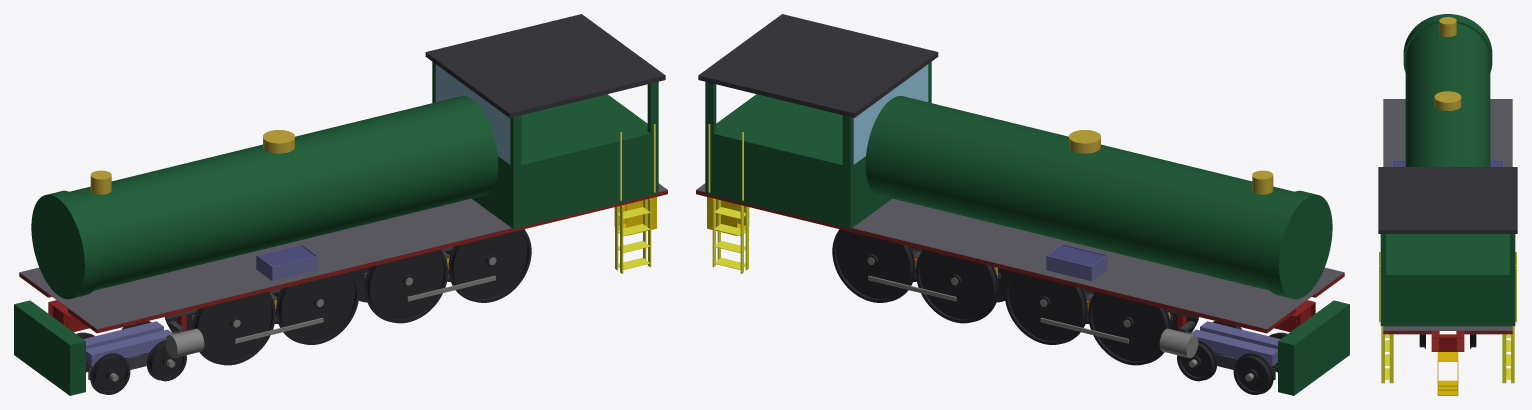
Rendered from PF-L100_locomotive.glb.
3 renders of one model, left to right at view 1: azimuth 30°, elevation 25°; view 2: azimuth 150°, elevation 25°; view 3: azimuth 270°, elevation 25°, orthographic. The views are drawn at different scales.
Parts seen in each view (by area): view 1: 205 boiler-style hood shell 3 mm (cosmetic, removable), 209 cab lower walls 3 mm on HSS2x2x1-8, 029 running board - deck PL6 tread plate (top Z1,605, LT11), 215 cab roof 3 mm skin on HSS3x2x1-8 purlins @600 (3 in deep, 206 smokebox front, 033 pilot - buffer beam PL12 box, 110 wheel web 25 T2 Ã1450 driver (spoked look; plate-web sec, 135 wheel web 25 T2 Ã1450 driver (spoked look; plate-web sec, 069 wheel web 25 T1 Ã1450 driver (spoked look; plate-web sec, 044 wheel web 25 T1 Ã1450 driver (spoked look; plate-web sec, 028 running-board edge angle L3x3x1-4, 214 cab front wall - windows (+14 smaller); view 2: 205 boiler-style hood shell 3 mm (cosmetic, removable), 209 cab lower walls 3 mm on HSS2x2x1-8, 029 running board - deck PL6 tread plate (top Z1,605, LT11), 215 cab roof 3 mm skin on HSS3x2x1-8 purlins @600 (3 in deep, 206 smokebox front, 033 pilot - buffer beam PL12 box, 106 wheel web 25 T2 Ã1450 driver (spoked look; plate-web sec, 131 wheel web 25 T2 Ã1450 driver (spoked look; plate-web sec, 065 wheel web 25 T1 Ã1450 driver (spoked look; plate-web sec, 040 wheel web 25 T1 Ã1450 driver (spoked look; plate-web sec, 027 running-board edge angle L3x3x1-4, 214 cab front wall - windows (+14 smaller); view 3: 209 cab lower walls 3 mm on HSS2x2x1-8, 205 boiler-style hood shell 3 mm (cosmetic, removable), 215 cab roof 3 mm skin on HSS3x2x1-8 purlins @600 (3 in deep, 029 running board - deck PL6 tread plate (top Z1,605, LT11), 206 smokebox front, 208 dome (cosmetic), 030 loco rear drop drawbar box PL16, 207 stack (cosmetic), 003 rear end sill HSS12x6x3-8, 223 step stringer FB 20x75, 233 step stringer FB 20x75, 211 cab rear post HSS4x4x1-4 (+8 smaller).
Boxes of the visible parts, box(x1,y1,x2,y2) form: 205 boiler-style hood shell 3 mm (cosmetic, removable): box(69, 96, 498, 290); 209 cab lower walls 3 mm on HSS2x2x1-8: box(472, 94, 658, 228); 029 running board - deck PL6 tread plate (top Z1,605, LT11): box(19, 183, 667, 329); 215 cab roof 3 mm skin on HSS3x2x1-8 purlins @600 (3 in deep: box(425, 14, 665, 117); 206 smokebox front: box(31, 190, 100, 299); 033 pilot - buffer beam PL12 box: box(14, 300, 85, 395); 110 wheel web 25 T2 Ã1450 driver (spoked look; plate-web sec: box(372, 250, 443, 319); 135 wheel web 25 T2 Ã1450 driver (spoked look; plate-web sec: box(456, 230, 527, 298); 069 wheel web 25 T1 Ã1450 driver (spoked look; plate-web sec: box(284, 272, 354, 340); 044 wheel web 25 T1 Ã1450 driver (spoked look; plate-web sec: box(200, 292, 271, 361); 028 running-board edge angle L3x3x1-4: box(96, 190, 667, 333); 214 cab front wall - windows: box(435, 64, 510, 164); 205 boiler-style hood shell 3 mm (cosmetic, removable): box(865, 96, 1294, 290); 209 cab lower walls 3 mm on HSS2x2x1-8: box(705, 94, 891, 228); 029 running board - deck PL6 tread plate (top Z1,605, LT11): box(696, 183, 1344, 329); 215 cab roof 3 mm skin on HSS3x2x1-8 purlins @600 (3 in deep: box(698, 14, 938, 117); 206 smokebox front: box(1263, 190, 1332, 299); 033 pilot - buffer beam PL12 box: box(1278, 300, 1349, 395); 106 wheel web 25 T2 Ã1450 driver (spoked look; plate-web sec: box(920, 250, 991, 319); 131 wheel web 25 T2 Ã1450 driver (spoked look; plate-web sec: box(836, 230, 907, 298); 065 wheel web 25 T1 Ã1450 driver (spoked look; plate-web sec: box(1009, 272, 1079, 340); 040 wheel web 25 T1 Ã1450 driver (spoked look; plate-web sec: box(1092, 292, 1163, 361); 027 running-board edge angle L3x3x1-4: box(696, 190, 1267, 333); 214 cab front wall - windows: box(853, 64, 928, 164); 209 cab lower walls 3 mm on HSS2x2x1-8: box(1380, 234, 1515, 326); 205 boiler-style hood shell 3 mm (cosmetic, removable): box(1405, 23, 1490, 166); 215 cab roof 3 mm skin on HSS3x2x1-8 purlins @600 (3 in deep: box(1378, 167, 1517, 233); 029 running board - deck PL6 tread plate (top Z1,605, LT11): box(1383, 99, 1512, 330); 206 smokebox front: box(1403, 14, 1492, 72); 208 dome (cosmetic): box(1434, 91, 1461, 110); 030 loco rear drop drawbar box PL16: box(1437, 352, 1458, 395); 207 stack (cosmetic): box(1439, 17, 1456, 36); 003 rear end sill HSS12x6x3-8: box(1439, 334, 1456, 351); 223 step stringer FB 20x75: box(1502, 334, 1506, 383); 233 step stringer FB 20x75: box(1389, 334, 1393, 383); 211 cab rear post HSS4x4x1-4: box(1510, 234, 1515, 274).
Size of the model in its own units: 11300 by 3725 by 2700.
